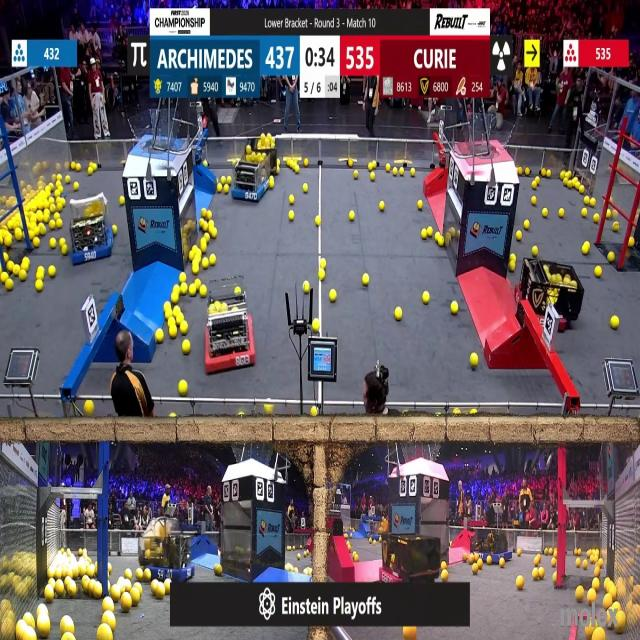ball_airborne: (404, 626, 418, 640)
ball_ground: (36, 619, 50, 639), (616, 614, 627, 634), (62, 618, 74, 634), (132, 588, 142, 606), (120, 596, 131, 612), (151, 582, 162, 598), (104, 614, 115, 630), (94, 583, 104, 599), (97, 627, 109, 640), (161, 582, 170, 598), (68, 584, 78, 598), (86, 402, 95, 417), (44, 588, 53, 603), (81, 577, 90, 592), (103, 598, 113, 611), (575, 588, 584, 602), (112, 588, 121, 602), (468, 353, 476, 368), (594, 630, 606, 640), (182, 341, 190, 355), (179, 381, 187, 395), (517, 575, 525, 589), (588, 590, 596, 604), (394, 308, 402, 321), (610, 316, 618, 329), (328, 289, 336, 302), (26, 616, 35, 627), (313, 318, 320, 332), (170, 326, 178, 338), (187, 284, 195, 296), (603, 596, 611, 608), (4, 236, 12, 248), (442, 569, 450, 581), (583, 242, 590, 255), (155, 331, 162, 344), (200, 286, 208, 297), (172, 292, 180, 303), (214, 564, 222, 575), (266, 406, 274, 417), (202, 257, 210, 268), (36, 269, 44, 280), (174, 308, 182, 319), (89, 566, 97, 577), (452, 302, 458, 316), (595, 267, 602, 279), (36, 280, 43, 292), (304, 282, 311, 294), (593, 577, 600, 589), (23, 257, 30, 269), (14, 230, 21, 242), (180, 322, 187, 334), (136, 568, 143, 580), (144, 568, 151, 580), (165, 310, 173, 320), (422, 291, 429, 302), (6, 280, 13, 291), (191, 264, 198, 275), (594, 566, 601, 577), (58, 200, 65, 211), (270, 177, 277, 188), (19, 270, 25, 282), (362, 274, 368, 286), (318, 271, 325, 281), (1, 272, 8, 282), (6, 264, 13, 274), (180, 284, 187, 294), (510, 264, 517, 274), (29, 230, 36, 240), (168, 317, 175, 327), (48, 267, 54, 278), (210, 254, 216, 265), (532, 246, 538, 257), (180, 273, 186, 284), (532, 568, 538, 579), (320, 257, 326, 268), (40, 224, 46, 235), (450, 229, 456, 240), (472, 563, 478, 574), (203, 220, 209, 231), (44, 210, 50, 221), (611, 222, 618, 231), (123, 569, 130, 578), (478, 561, 485, 570), (608, 252, 614, 262), (380, 202, 386, 212), (50, 240, 56, 250), (34, 238, 40, 248), (369, 172, 375, 182), (517, 232, 523, 242), (541, 208, 547, 218), (211, 230, 217, 240), (538, 568, 544, 578), (349, 211, 355, 221), (439, 237, 445, 247), (427, 226, 433, 236), (462, 553, 468, 563), (202, 240, 208, 250), (63, 634, 73, 640), (165, 304, 172, 312), (524, 220, 530, 229), (629, 239, 635, 248), (311, 409, 317, 418), (499, 559, 505, 568), (288, 194, 294, 203), (578, 184, 584, 193), (57, 219, 63, 228), (583, 208, 589, 217), (590, 199, 596, 208), (606, 210, 612, 219), (49, 220, 55, 229), (62, 246, 68, 255), (534, 557, 540, 566), (187, 251, 193, 260), (316, 216, 321, 226), (559, 208, 564, 218), (4, 252, 9, 262), (288, 211, 293, 221), (207, 210, 212, 220), (594, 214, 600, 222), (118, 198, 124, 206), (531, 198, 537, 206), (422, 230, 428, 238), (348, 161, 354, 169), (442, 561, 448, 569), (61, 239, 67, 247), (563, 178, 569, 186), (369, 162, 375, 170), (204, 233, 210, 241), (560, 171, 566, 179), (566, 172, 572, 180), (418, 201, 423, 210), (304, 183, 309, 192), (585, 198, 590, 207), (108, 564, 113, 573), (217, 183, 222, 192), (202, 209, 207, 218), (392, 169, 398, 176), (511, 253, 517, 260), (220, 177, 226, 184), (305, 568, 311, 575), (112, 224, 116, 234), (194, 278, 199, 286), (545, 170, 550, 178), (532, 181, 537, 189), (305, 160, 310, 168), (90, 168, 95, 176), (516, 166, 521, 174), (294, 166, 299, 174), (584, 561, 589, 569), (76, 165, 81, 173), (520, 168, 525, 176), (71, 164, 76, 172), (204, 161, 209, 169), (56, 188, 61, 196), (554, 573, 558, 582), (354, 554, 358, 563), (488, 557, 492, 566), (56, 212, 62, 218), (223, 185, 228, 192), (66, 176, 71, 183), (386, 166, 391, 173), (412, 169, 416, 177), (74, 182, 78, 190), (354, 171, 358, 179), (576, 560, 580, 568), (535, 176, 539, 184), (226, 176, 230, 184), (276, 167, 280, 175), (58, 174, 62, 182), (399, 169, 403, 176), (553, 560, 557, 567), (516, 552, 520, 558), (172, 413, 176, 419), (297, 554, 300, 560)
goal: (460, 118, 517, 158), (128, 115, 186, 152)
robot_blue: (137, 524, 195, 584), (70, 197, 114, 261), (231, 140, 274, 205), (475, 528, 513, 564)
robot_red: (203, 283, 252, 370), (524, 258, 584, 328), (380, 534, 440, 587)
